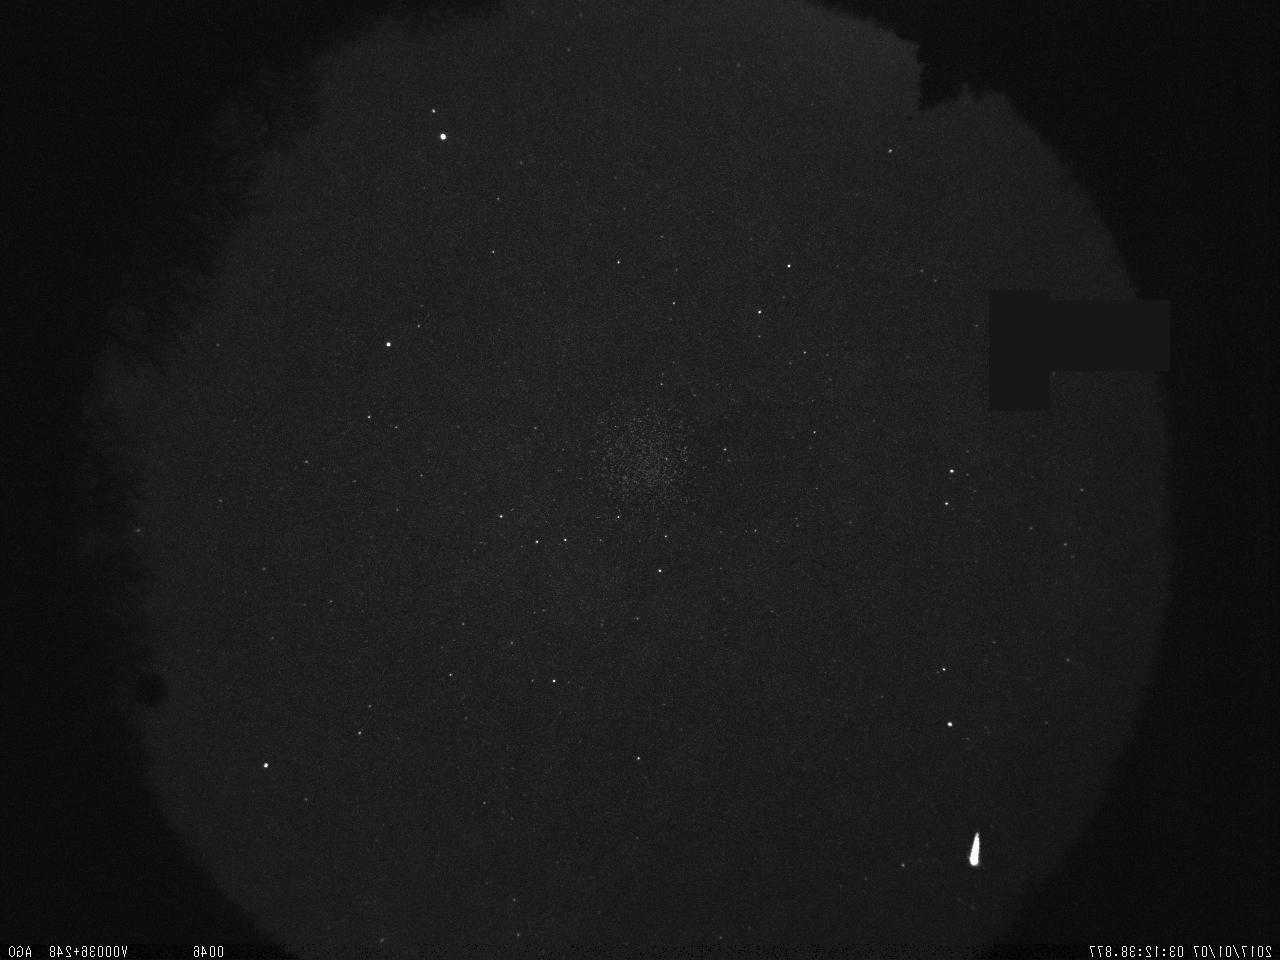meteor: (945, 814, 1000, 881)
